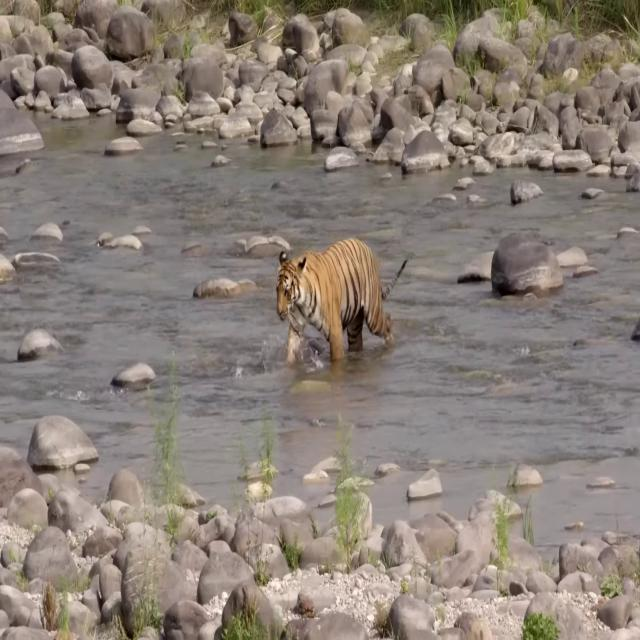tiger: (276, 237, 408, 363)
